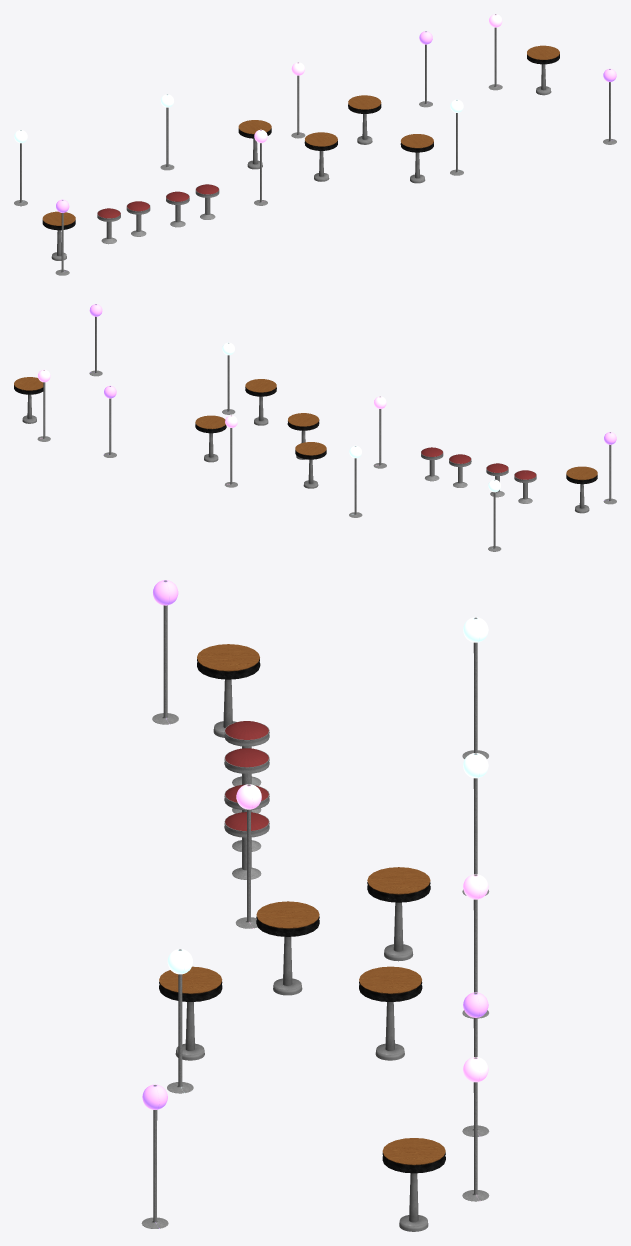
The model's file is finalchairtablelights.fbx.
3 views of the same model, one above another, from view 1: azimuth 30°, elevation 25°; view 2: azimuth 150°, elevation 25°; view 3: azimuth 270°, elevation 25° (orthographic). The views are drawn at different scales.
Parts seen in each view (by area): view 1: high_table2, high_table3, high_table1, high_table5, high_table4, high_table, bar_chair3, bar_chair5, bar_chair4, bar_chair, standling_light, standling_light4 (+2 smaller); view 2: high_table3, high_table4, high_table, high_table2, high_table5, high_table1, bar_chair5, bar_chair4, bar_chair, standling_light6, standling_light, standling_light3 (+6 smaller); view 3: high_table1, high_table5, high_table, high_table2, high_table4, high_table3, standling_light6, standling_light8, bar_chair5, standling_light5, standling_light4, bar_chair3 (+6 smaller).
Boxes of the visible parts, box(x1,y1,x2,y2) form: high_table2: box(348, 95, 381, 144); high_table3: box(400, 134, 433, 183); high_table1: box(304, 132, 337, 181); high_table5: box(527, 45, 559, 95); high_table4: box(42, 211, 75, 260); high_table: box(238, 120, 271, 169); bar_chair3: box(126, 201, 150, 236); bar_chair5: box(195, 184, 219, 219); bar_chair4: box(166, 191, 189, 227); bar_chair: box(97, 208, 120, 244); standling_light: box(291, 62, 305, 138); standling_light4: box(488, 14, 502, 90); high_table3: box(245, 379, 276, 425); high_table4: box(566, 466, 597, 513); high_table: box(295, 442, 326, 488); high_table2: box(195, 415, 226, 462); high_table5: box(14, 377, 43, 423); high_table1: box(287, 413, 319, 459); bar_chair5: box(421, 447, 443, 481); bar_chair4: box(449, 454, 471, 487); bar_chair: box(514, 470, 536, 503); standling_light6: box(603, 432, 616, 504); standling_light: box(225, 415, 237, 487); standling_light3: box(349, 445, 362, 517); high_table1: box(256, 901, 319, 995); high_table5: box(382, 1138, 445, 1231); high_table: box(367, 867, 430, 961); high_table2: box(359, 966, 422, 1060); high_table4: box(197, 644, 260, 737); high_table3: box(159, 966, 222, 1060); standling_light6: box(152, 580, 178, 724); standling_light8: box(167, 949, 193, 1093); bar_chair5: box(224, 812, 269, 879); standling_light5: box(141, 1084, 168, 1228); standling_light4: box(462, 1057, 489, 1201); bar_chair3: box(224, 748, 269, 813).
Bounding box in the file's own units: 1671 × 206 × 467.
5 materials, 5 textured.
